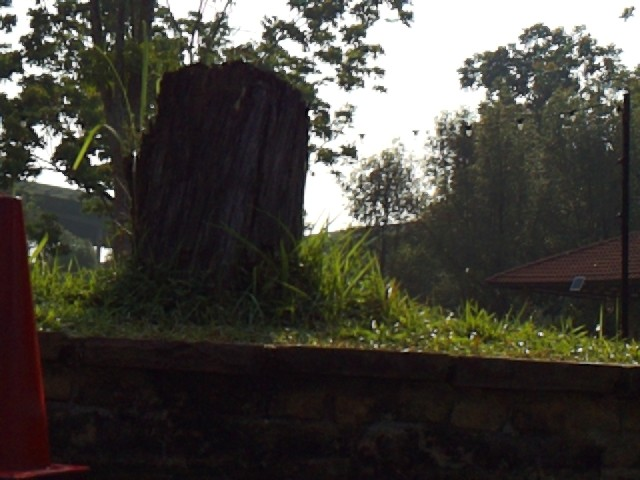obstacle: (1, 195, 90, 478)
